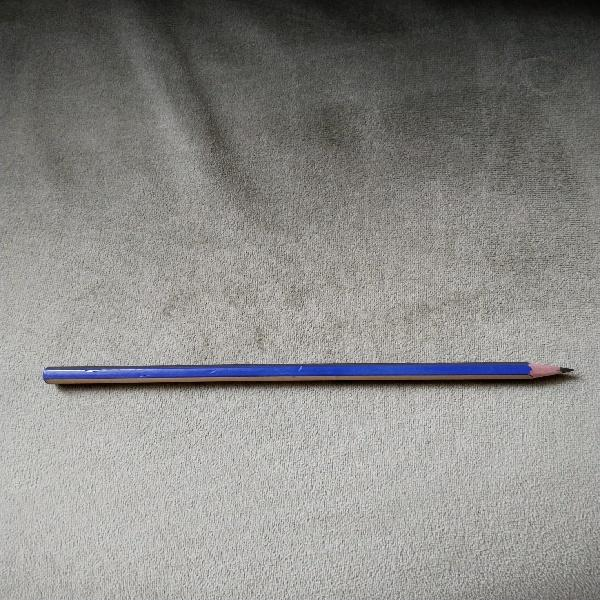pencil: (39, 360, 582, 389)
